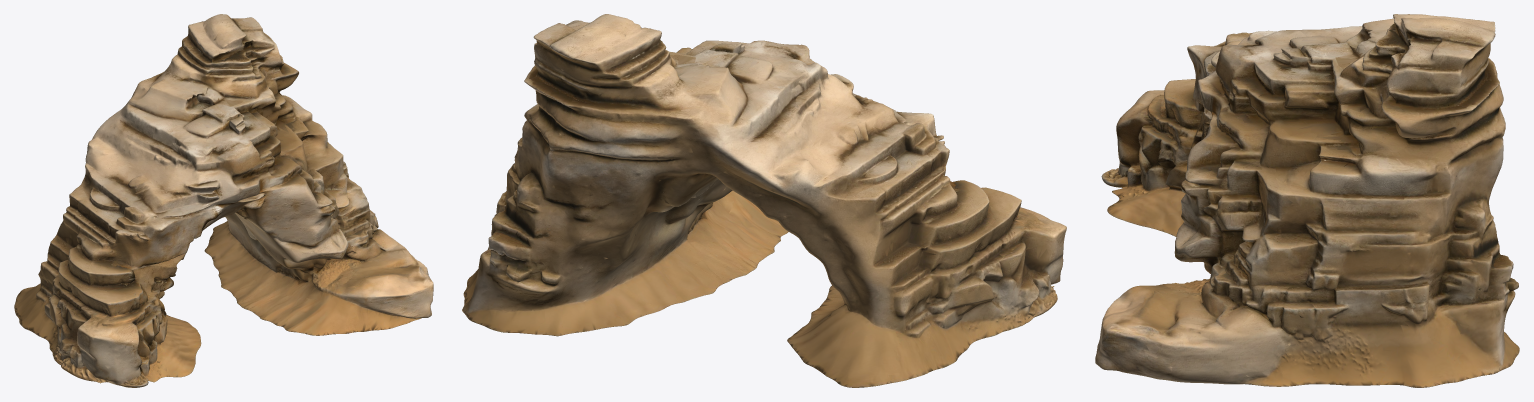
Rendered from Desert_Sandstone_Arch.glb.
3 renders of one model, left to right at view 1: azimuth 30°, elevation 25°; view 2: azimuth 150°, elevation 25°; view 3: azimuth 270°, elevation 25°, orthographic. The views are drawn at different scales.
Parts seen in each view (by area): view 1: Desert_Sandstone_Arch; view 2: Desert_Sandstone_Arch; view 3: Desert_Sandstone_Arch.
Boxes of the visible parts, x1=… form: Desert_Sandstone_Arch: x1=14, y1=14, x2=433, y2=387; Desert_Sandstone_Arch: x1=462, y1=14, x2=1066, y2=387; Desert_Sandstone_Arch: x1=1095, y1=14, x2=1519, y2=387.
Bounding box in the file's own units: 1.9 × 1.11 × 1.45.
1 material, 1 textured.
